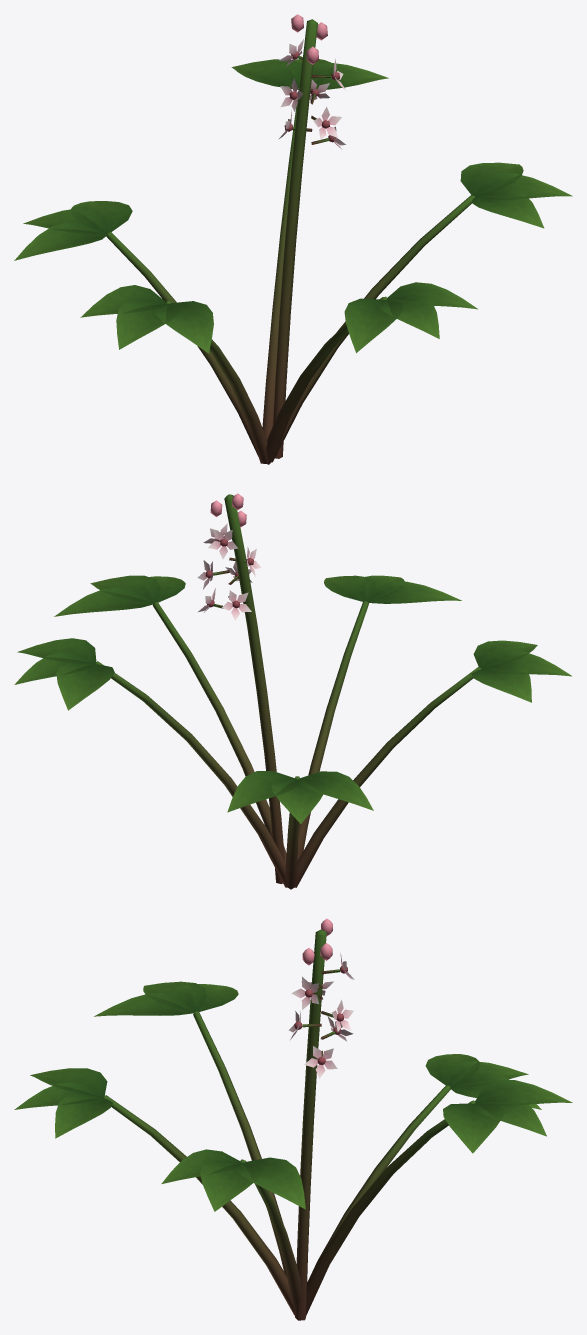
File: bogbean.glb
3 renders of one model, top to bottom at view 1: azimuth 30°, elevation 25°; view 2: azimuth 150°, elevation 25°; view 3: azimuth 270°, elevation 25°, orthographic. The views are drawn at different scales.
Visible parts, largest first — view 1: bogbean; view 2: bogbean; view 3: bogbean.
Boxes of the visible parts, x1,y1,x2,y2 form: bogbean: [14, 14, 572, 464]; bogbean: [14, 493, 571, 889]; bogbean: [14, 918, 572, 1320].
Size of the model in its own units: 0.4651 by 0.3882 by 0.469.
Materials: 1 (1 with a texture image).
